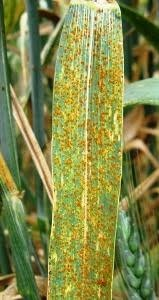Leaf Rust: (48, 53, 127, 276)
